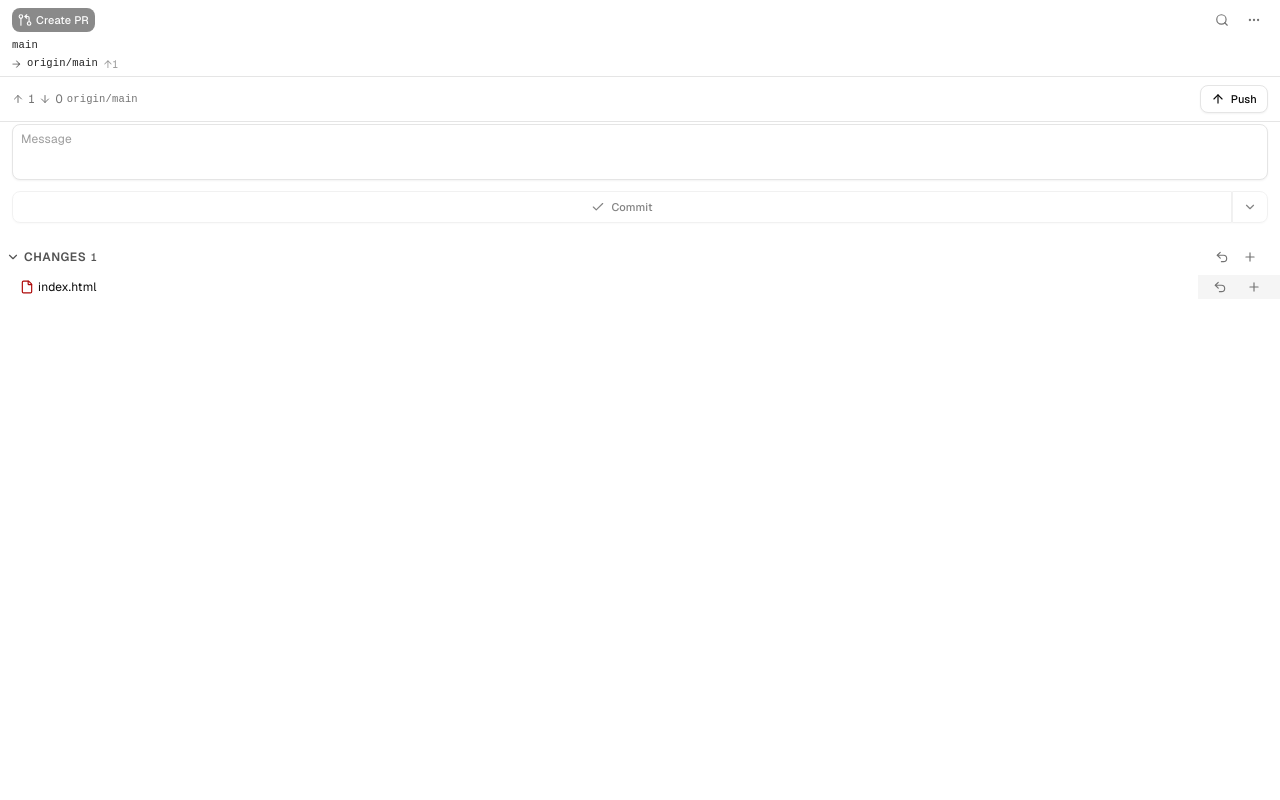
Test: changes panel push modes (#332) › cancelling the force push dialog pushes nothing
Press the mouse on the button named "More commit and remote actions" at point(1250, 207), box [1232, 191, 1268, 223]
Click the button named "More commit and remote actions". click: point(1250, 207)
box: [1232, 191, 1268, 223]
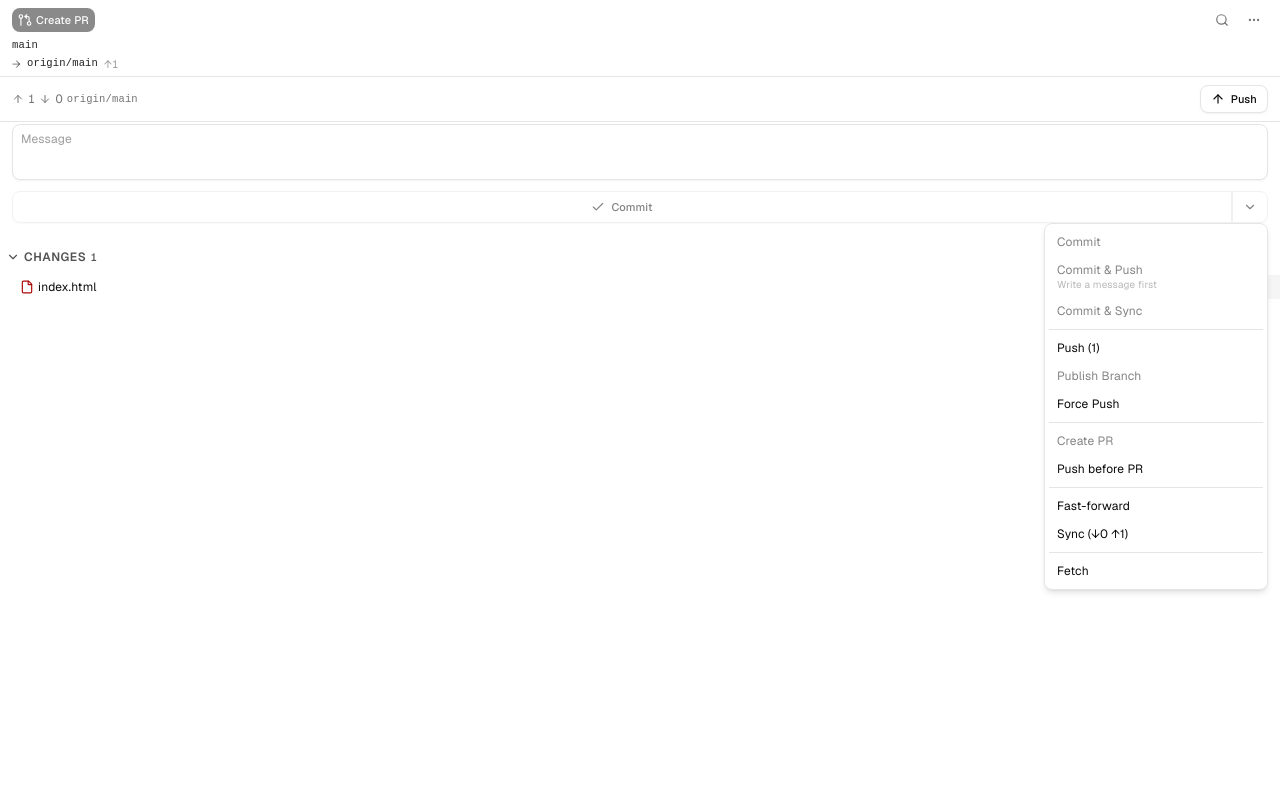
Result: the menu is shown at [1044, 223, 1268, 590]
Click the menu item "Force Push". click: point(1088, 404)
box: [1057, 396, 1120, 412]
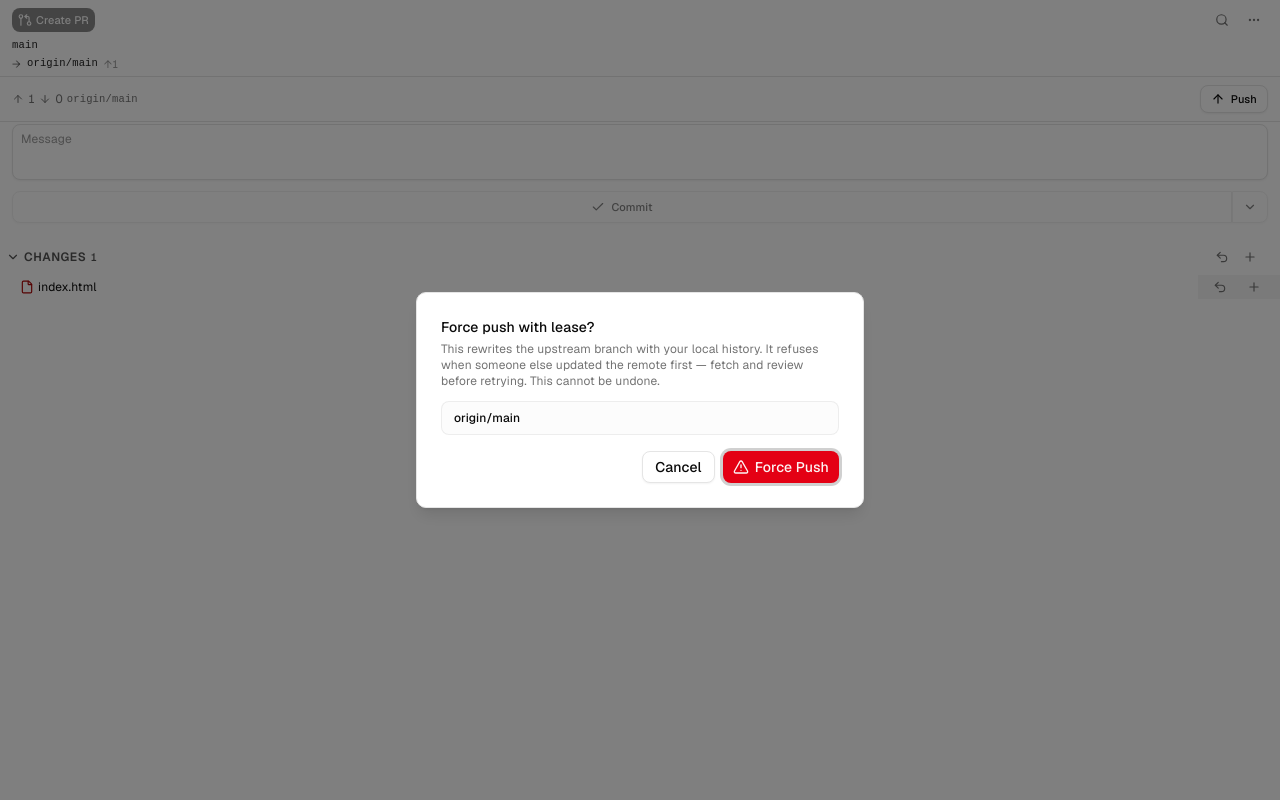
Result: the dialog is shown at [416, 292, 864, 508]
Click the button "Cancel". click: point(678, 467)
box: [642, 451, 715, 483]
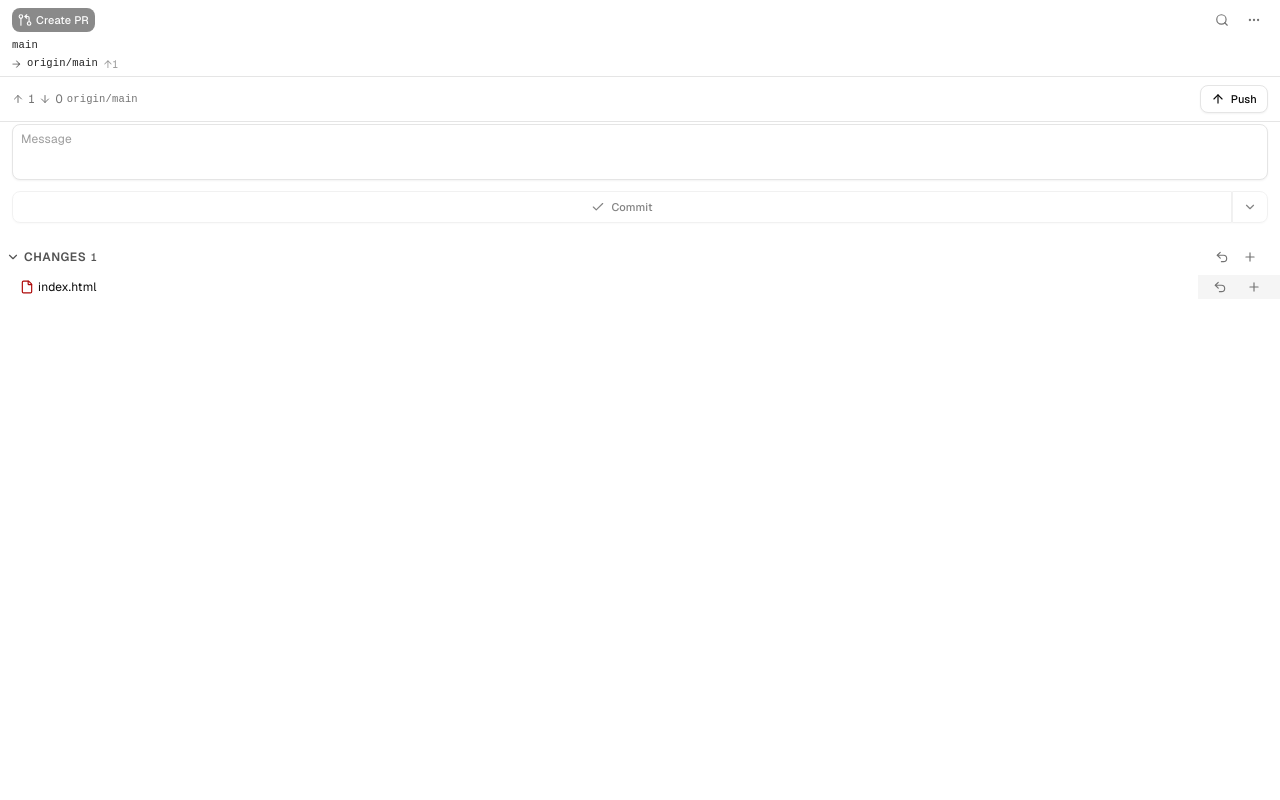
Result: the dialog is gone
